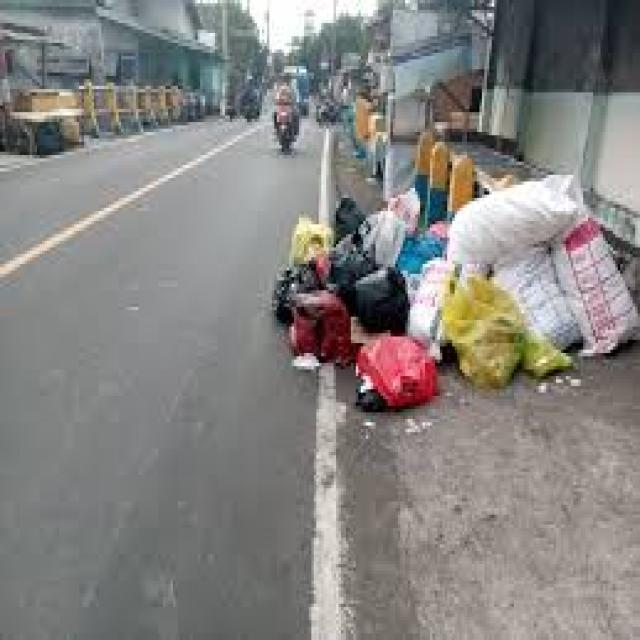trash: (264, 189, 640, 438)
